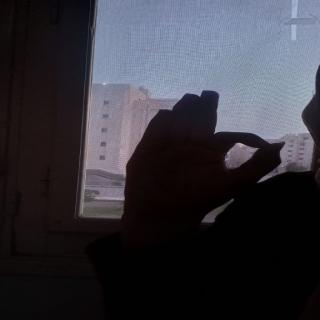Space: (111, 88, 293, 226)
